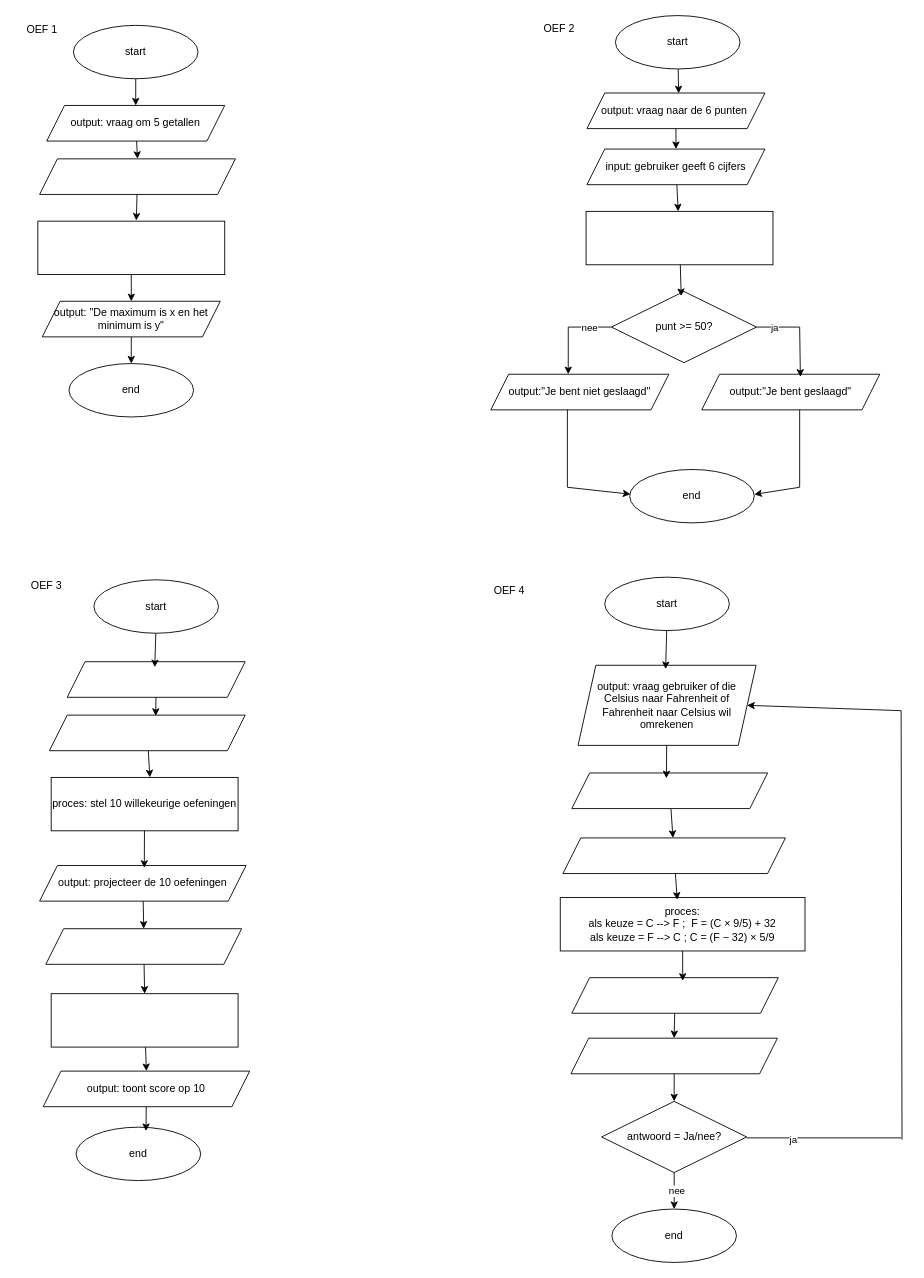
The diagram is 924 pixels wide and 1278 high, and some of its shapes have lost their labels. The shapes that lost their labels are listed below. From the top down, each one's centre as x and y in pixels, then its label:
(x=137, y=176): input: gebruiker voert 5 getallen in
(x=131, y=247): proces: bepaal grootste getal x en kleinste getal y
(x=679, y=237): proces: bereken de gemiddelde (som/6)
(x=155, y=679): output: vraag welke tafel
(x=147, y=732): input: gebruiker voert tafel in
(x=669, y=790): input: gebruiker voert keuze in
(x=673, y=855): input: gebruiker voert getal in (°C of °F afhankelijk van keuze)
(x=143, y=946): input: gebruiker geef antwoorden in
(x=674, y=995): output: toon de resultaat
(x=144, y=1020): proces: controleer of antwoord juist is en hou bij hoeveel antwoorden juist zijn
(x=673, y=1055): output: "Nog een conversie uitvoeren?"
